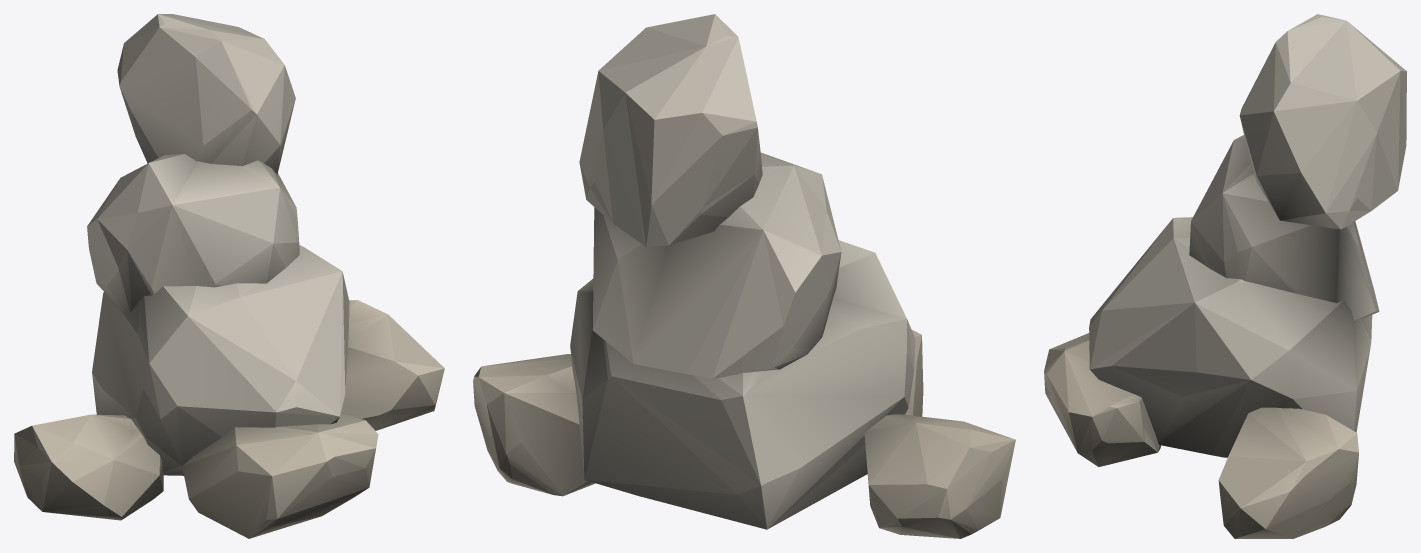
The model's file is HeroCliff_A.fbx.
3 renders of one model, left to right at view 1: azimuth 30°, elevation 25°; view 2: azimuth 150°, elevation 25°; view 3: azimuth 270°, elevation 25°, orthographic. The views are drawn at different scales.
Visible parts, largest first — view 1: HeroCliff_A__Rock; view 2: HeroCliff_A__Rock; view 3: HeroCliff_A__Rock.
Boxes of the visible parts, left/top/right/bottom form: HeroCliff_A__Rock: left=14, top=14, right=444, bottom=538; HeroCliff_A__Rock: left=473, top=14, right=1015, bottom=538; HeroCliff_A__Rock: left=1044, top=14, right=1406, bottom=538.
Size of the model in its own units: 8.82 by 8.31 by 6.57.
